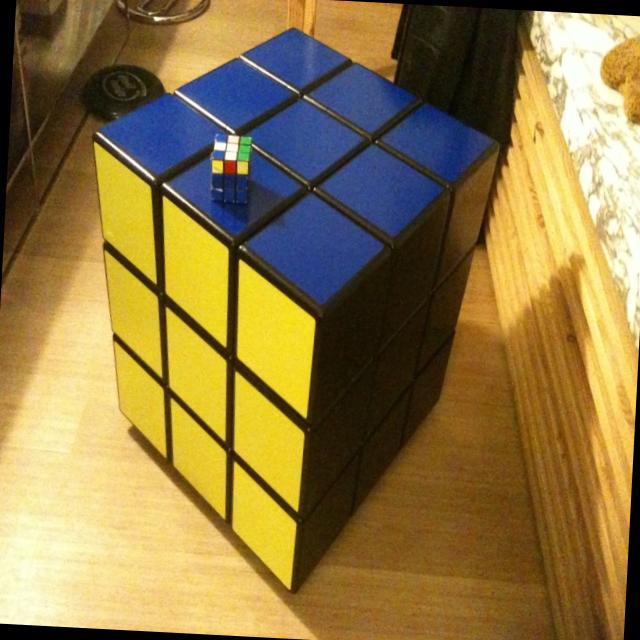Toy: (69, 17, 506, 604)
